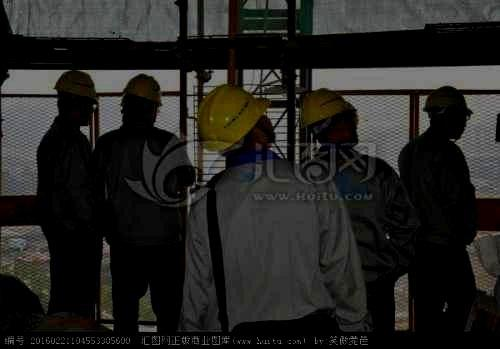helmet: (197, 83, 276, 155), (299, 87, 360, 146), (421, 85, 474, 138), (53, 69, 100, 127), (120, 73, 163, 130)
